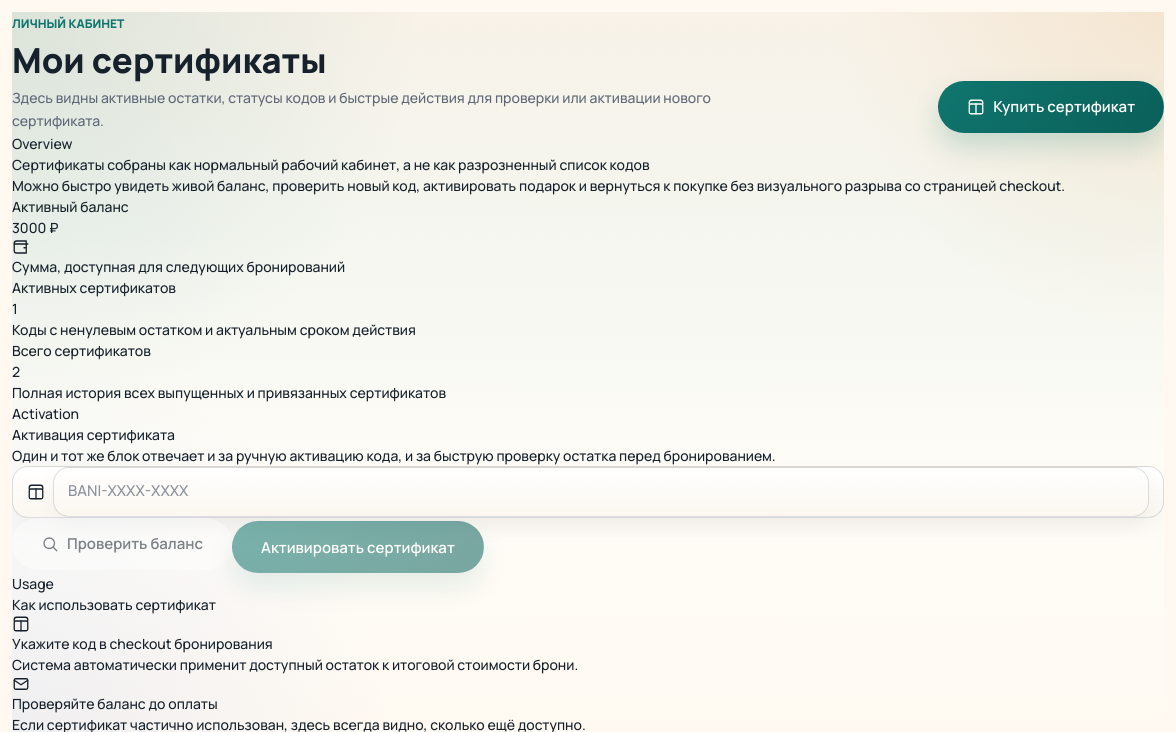
Test case: CertificateList › shows balance check panel after code verification
The image size is (1176, 732).
Type "BANI-TEST-1234" into the field with placeholder "BANI-XXXX-XXXX" at (601, 492), box x1=53 y1=466 x2=1149 y2=516
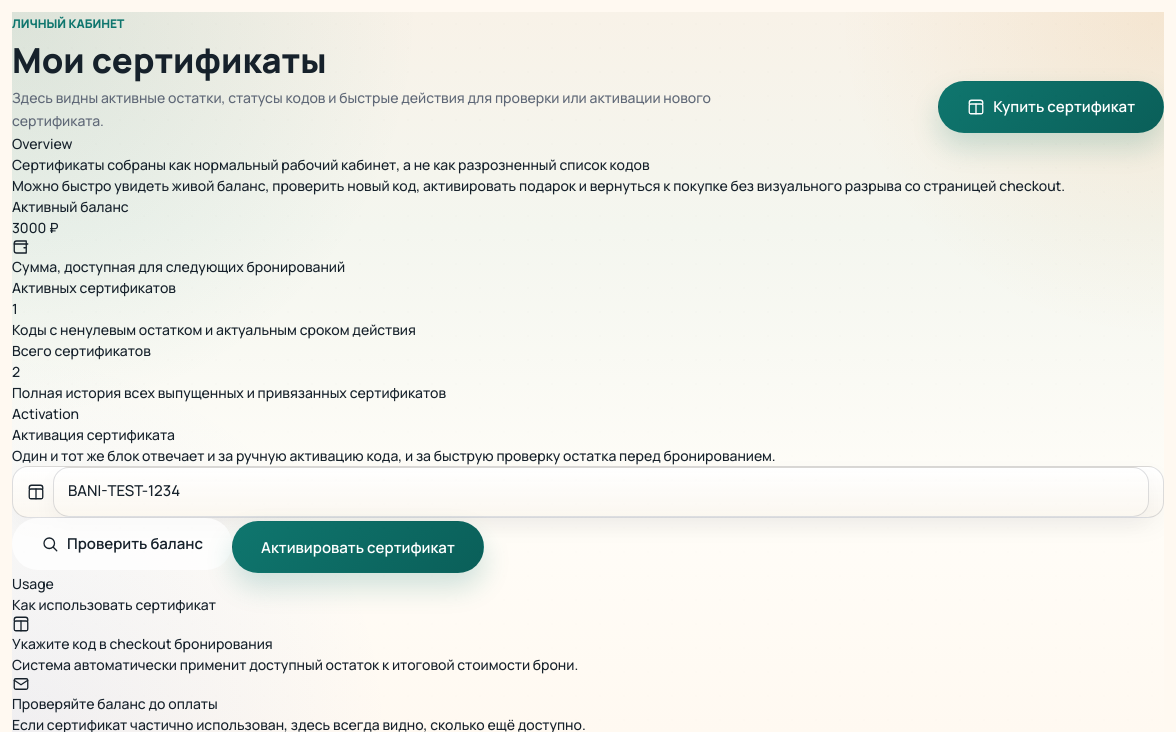
Click the button "Проверить баланс" at (122, 544), box x1=12 y1=518 x2=232 y2=570
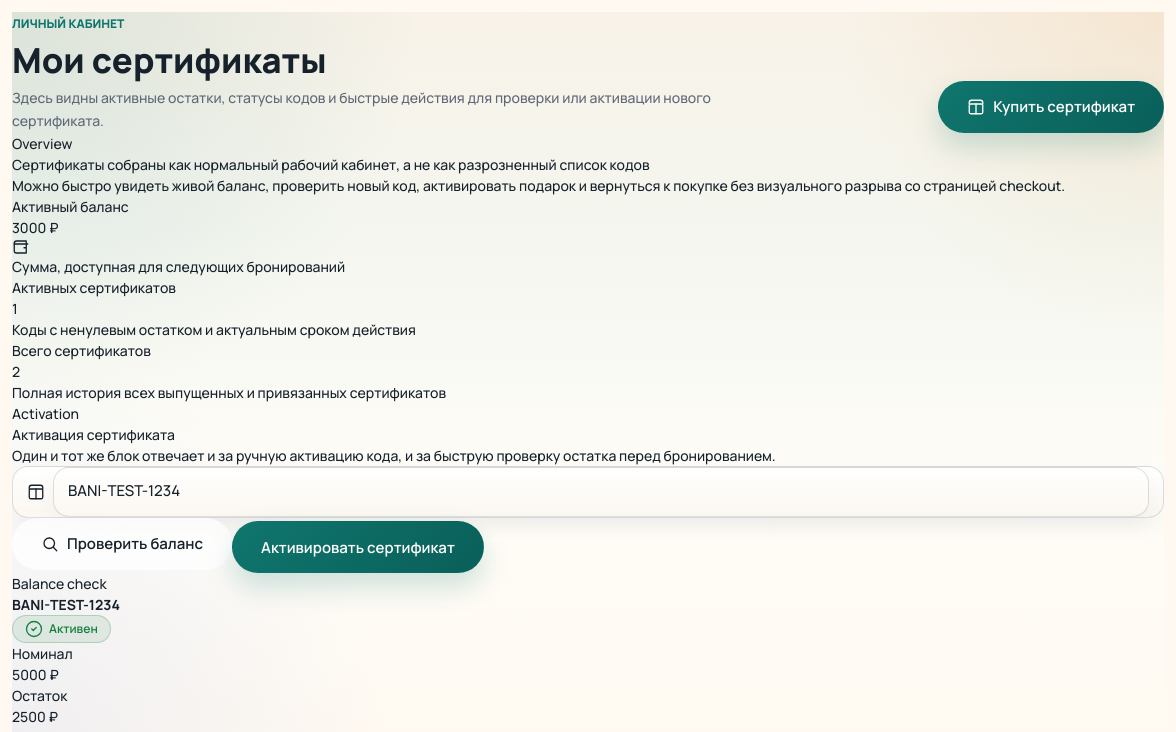
Check: the text "BANI-TEST-1234" is shown, box x1=12 y1=595 x2=120 y2=614
